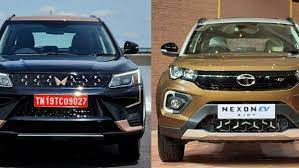Tata Nexon: (155, 14, 299, 166)
